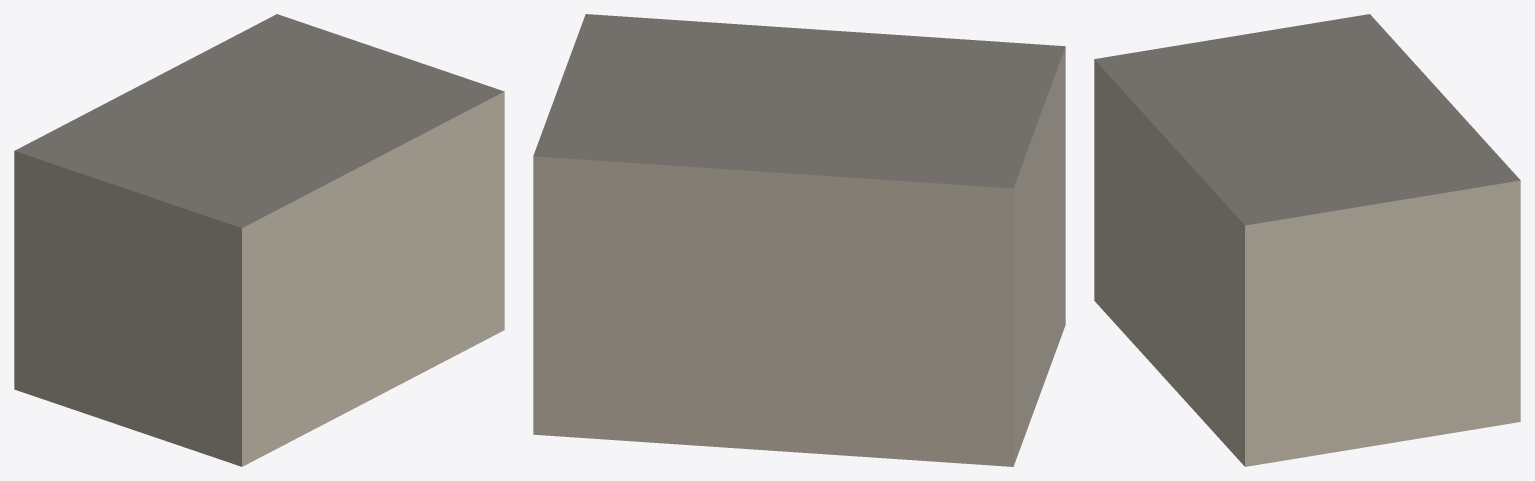
The picture shows the model from 3 angles, left to right: view 1: azimuth 30°, elevation 25°; view 2: azimuth 150°, elevation 25°; view 3: azimuth 270°, elevation 25°; orthographic projection. The views are drawn at different scales.
Visible parts, largest first — view 1: HP-w408450635; view 2: HP-w408450635; view 3: HP-w408450635.
Boxes of the visible parts, x1,y1,x2,y2 form: HP-w408450635: [14, 14, 504, 466]; HP-w408450635: [533, 14, 1065, 466]; HP-w408450635: [1094, 14, 1520, 466].
Bounding box in the file's own units: 22.54 × 12 × 19.21.
